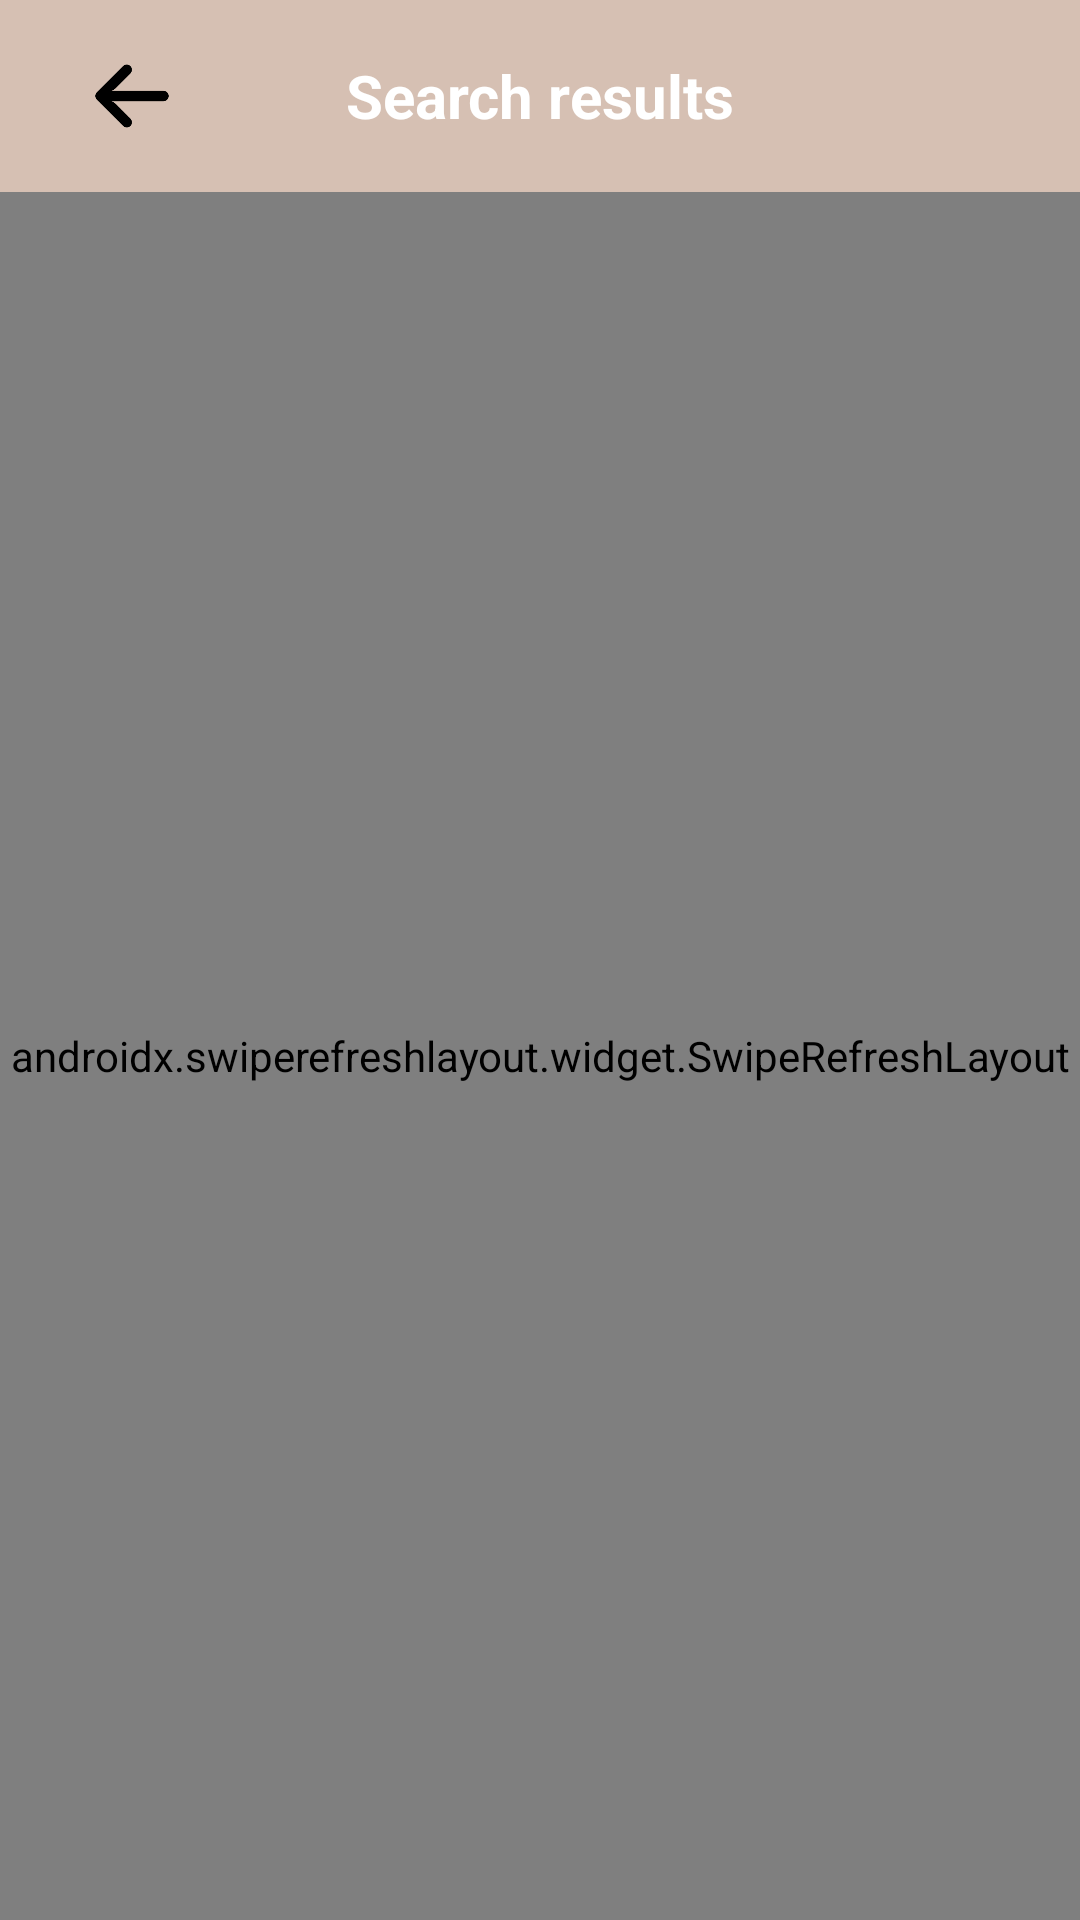

Named icons in this screenshot (1080×1920) and their centers, (x=x, y=y):
arrow back: (x=132, y=96)
